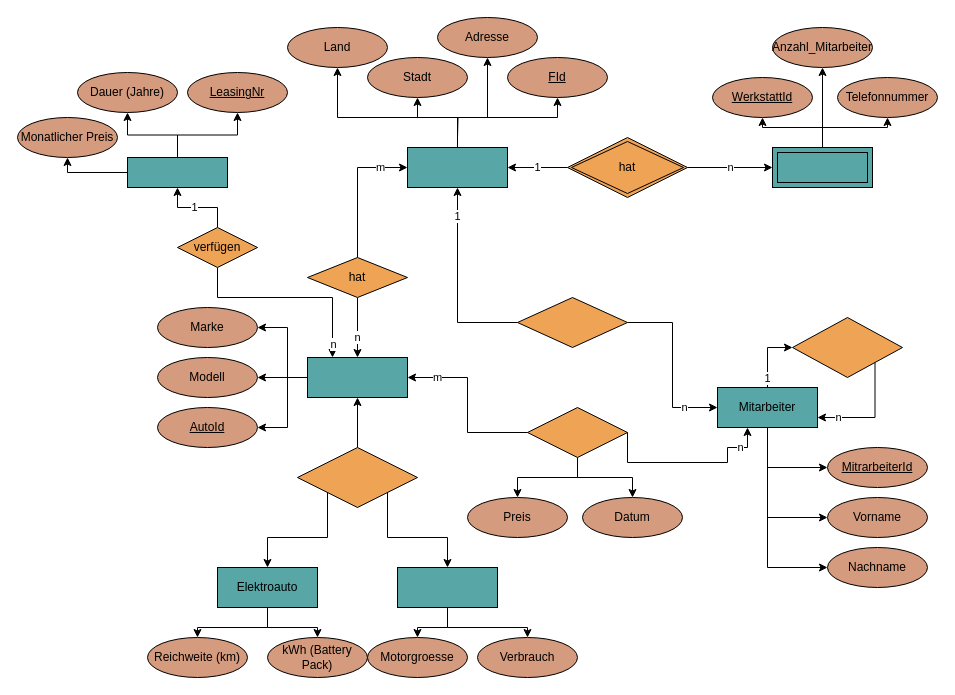
Image size: 955x695. Some labels were removed from this diagram. Here are the shapes that lost their labels. From the top down, the centre of each, then its label:
pixel 177 172: Leasing
pixel 457 167: Filiale
pixel 822 167: Autowerkstatt
pixel 572 322: beschaeftigt
pixel 847 347: ist Chef von
pixel 357 377: Auto
pixel 577 432: verkauft
pixel 357 477: IS-A
pixel 447 587: SUV
